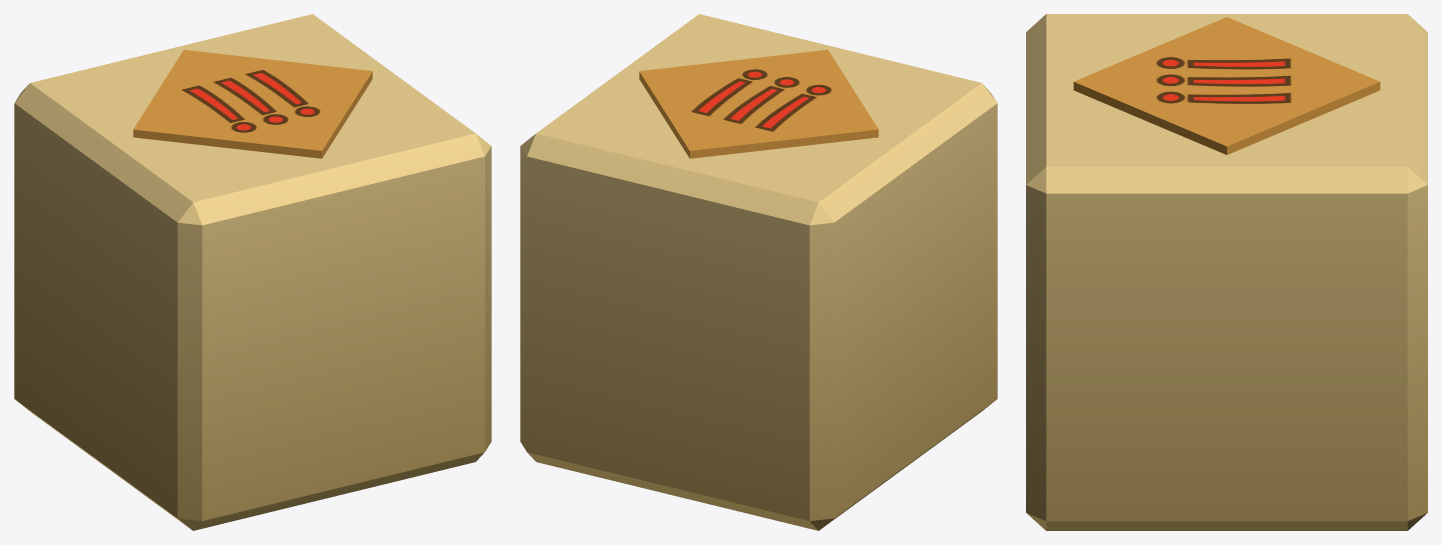
The model's file is Tile_Danger_White_02.fbx.
3 views of the same model, side by side, from view 1: azimuth 30°, elevation 25°; view 2: azimuth 150°, elevation 25°; view 3: azimuth 270°, elevation 25° (orthographic). The views are drawn at different scales.
Visible parts, largest first — view 1: Tile Putih Plate Speed.005; view 2: Tile Putih Plate Speed.005; view 3: Tile Putih Plate Speed.005.
Part boxes in pixels (<box>): Tile Putih Plate Speed.005: <box>14,14,491,530</box>; Tile Putih Plate Speed.005: <box>520,14,997,530</box>; Tile Putih Plate Speed.005: <box>1026,14,1427,530</box>.
Bounding box in the file's own units: 1 × 1.02 × 1.
Materials: 1 (1 with a texture image).
